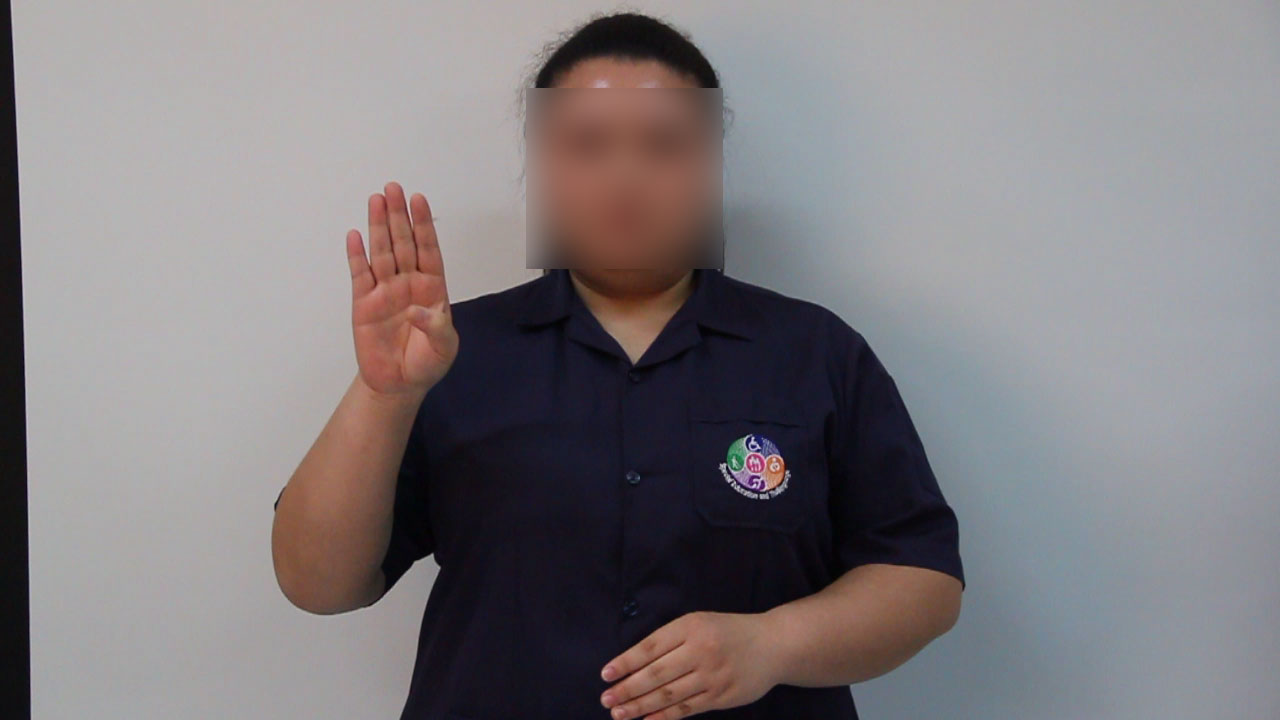bor: (326, 167, 472, 428)
